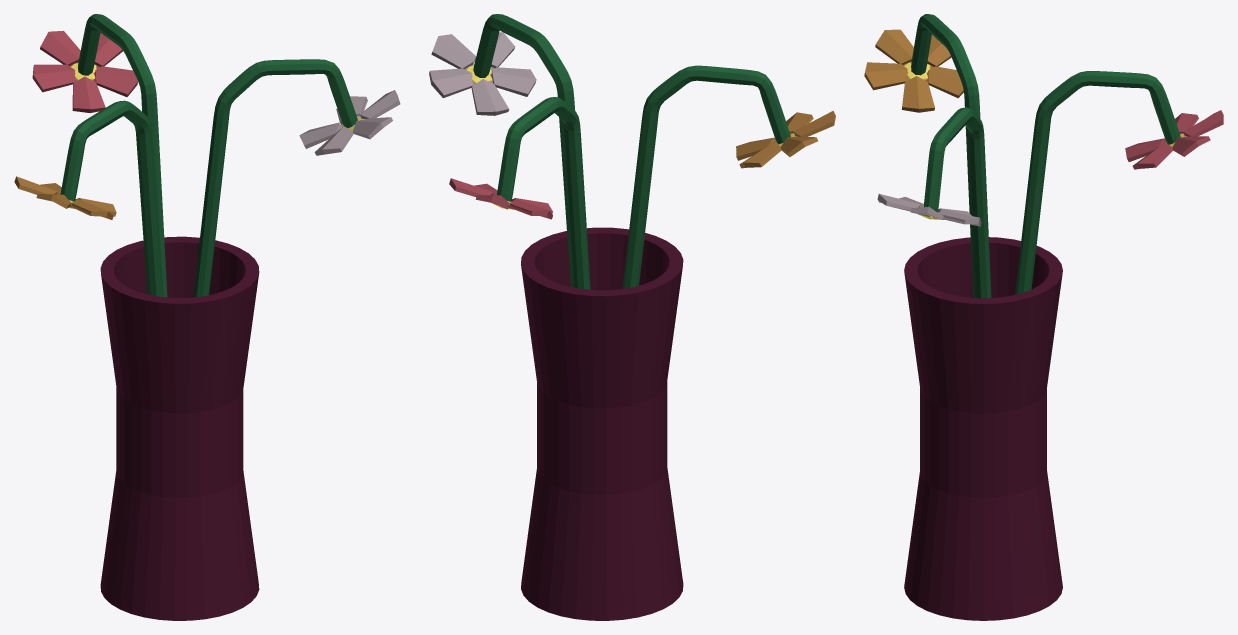
File: Flowers.fbx
3 renders of one model, left to right at view 1: azimuth 30°, elevation 25°; view 2: azimuth 150°, elevation 25°; view 3: azimuth 270°, elevation 25°, orthographic. The views are drawn at different scales.
Parts seen in each view (by area): view 1: Flowers; view 2: Flowers; view 3: Flowers.
Boxes of the visible parts, x1=… form: Flowers: x1=14, y1=14, x2=400, y2=620; Flowers: x1=429, y1=14, x2=835, y2=620; Flowers: x1=864, y1=14, x2=1223, y2=620.
Size of the model in its own units: 453 by 593 by 375.
